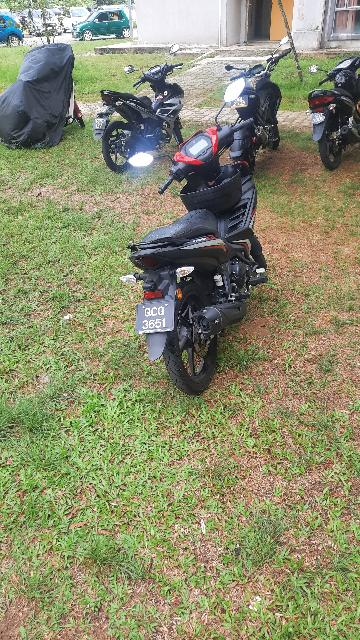License_Plate: (134, 301, 182, 337), (311, 112, 330, 126), (231, 97, 251, 110), (94, 119, 109, 131)
motorcycle: (119, 137, 273, 400), (94, 64, 186, 170), (227, 43, 294, 167), (304, 53, 360, 172)
